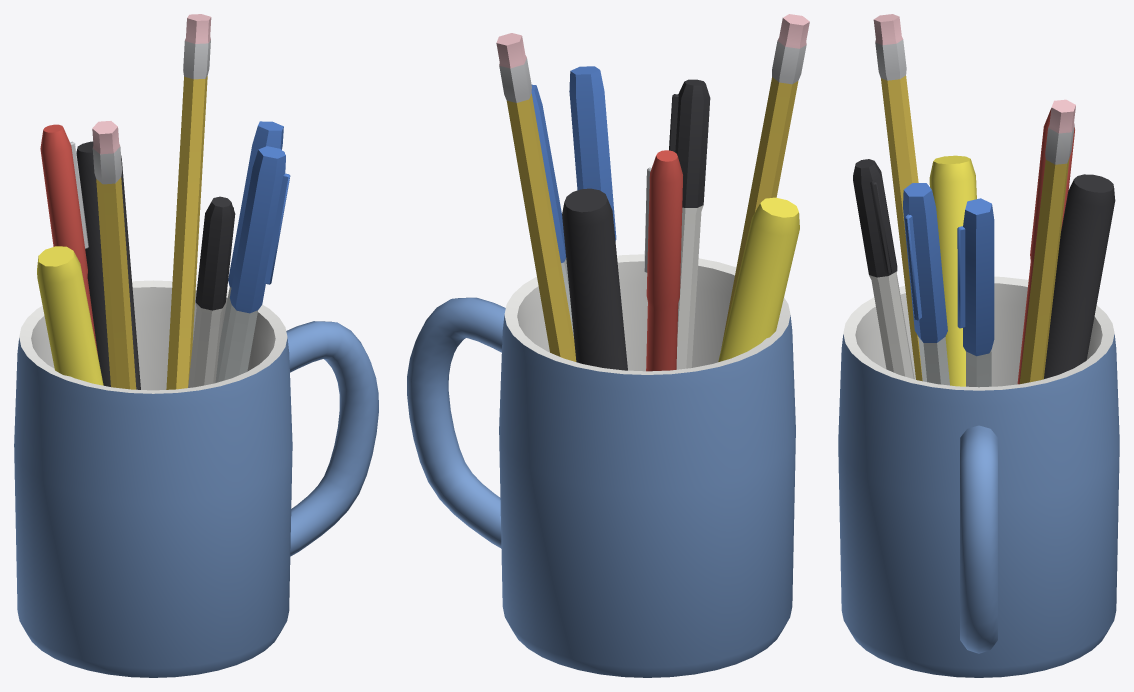
File: paper_pen_cup.fbx
3 views of the same model, side by side, from view 1: azimuth 30°, elevation 25°; view 2: azimuth 150°, elevation 25°; view 3: azimuth 270°, elevation 25° (orthographic). The views are drawn at different scales.
Visible parts, largest first — view 1: paper_pen_cup; view 2: paper_pen_cup; view 3: paper_pen_cup.
Boxes of the visible parts, <box> form: paper_pen_cup: <box>14,14,378,677</box>; paper_pen_cup: <box>407,14,809,677</box>; paper_pen_cup: <box>838,14,1119,677</box>.
Bounding box in the file's own units: 0.1189 × 0.1825 × 0.082.
